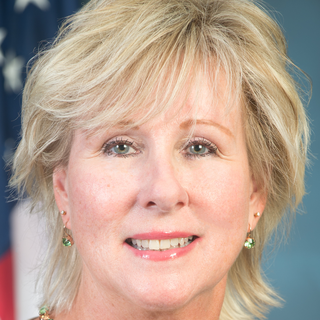eye: (175, 134, 224, 161), (99, 135, 143, 158)
